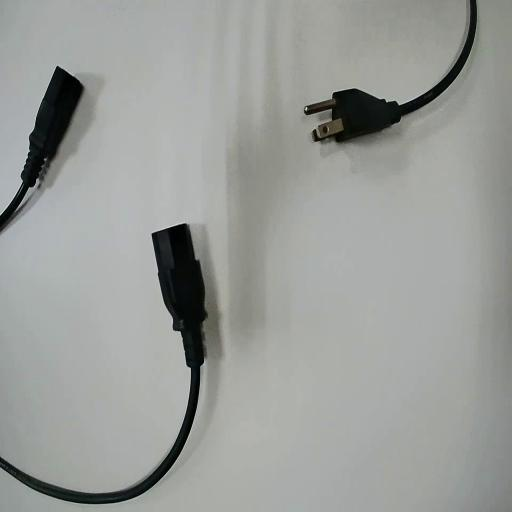wire: (0, 225, 207, 502), (305, 0, 476, 142), (0, 68, 82, 230)
